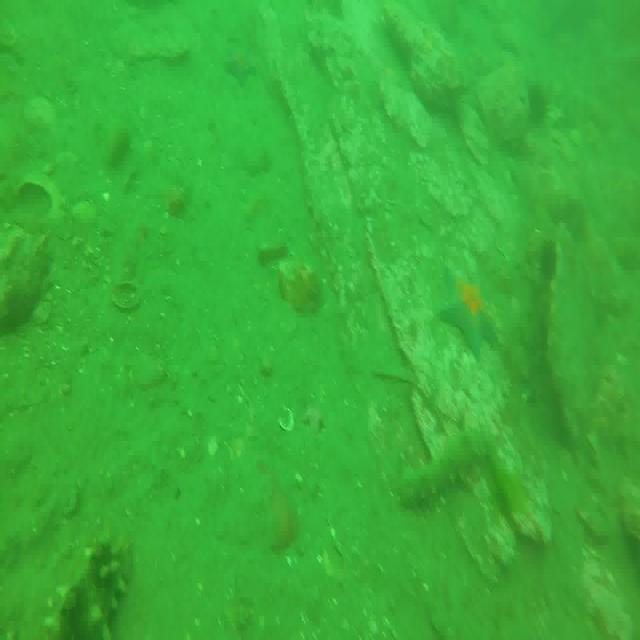echinus: (525, 84, 551, 127)
holothurian: (48, 538, 129, 640), (402, 426, 489, 516)
starfish: (438, 266, 498, 359), (223, 38, 254, 86)
